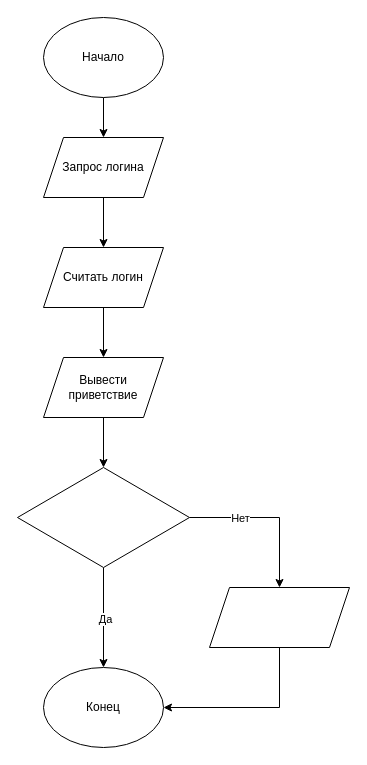
This 367x765 diagram has some shape labels left out. Here are the shapes that lost their labels. From the top down, the box of each, then its label:
(16, 466, 190, 568): Является ли премиум пользователем
(208, 586, 350, 648): Вывести рекламу
